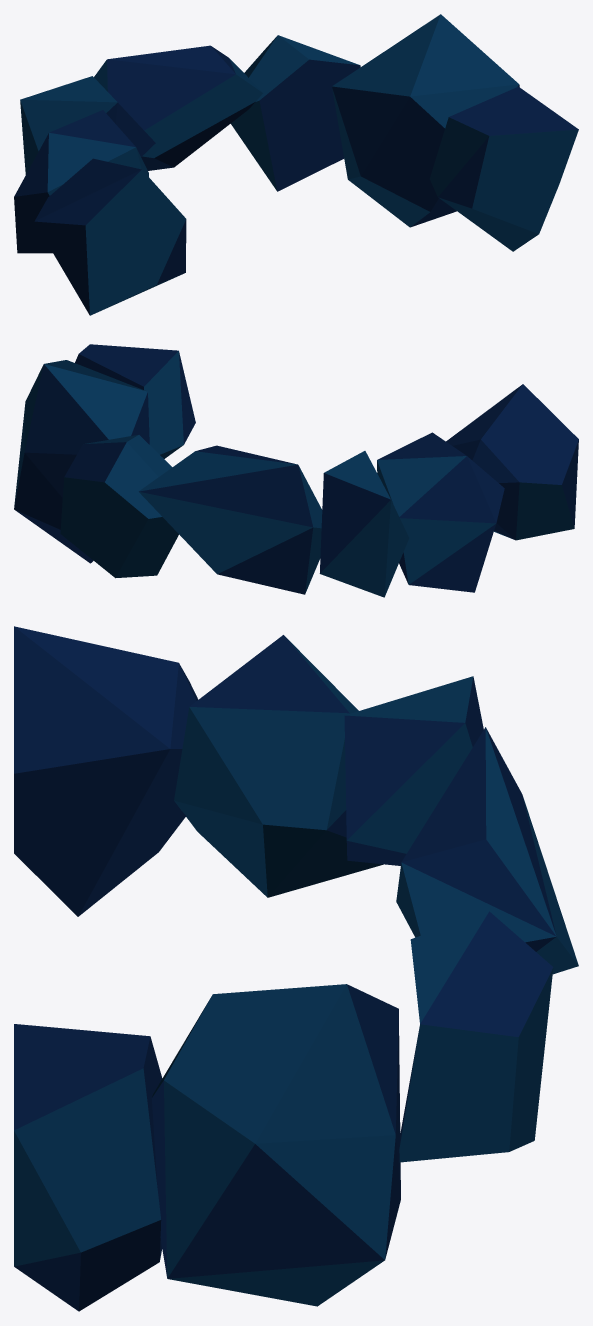
The model's file is winter_middle_gate.fbx.
3 renders of one model, top to bottom at view 1: azimuth 30°, elevation 25°; view 2: azimuth 150°, elevation 25°; view 3: azimuth 270°, elevation 25°, orthographic. The views are drawn at different scales.
Visible parts, largest first — view 1: winter_gate.001; view 2: winter_gate.001; view 3: winter_gate.001.
Boxes of the visible parts, x1,y1,x2,y2 form: winter_gate.001: (14, 14, 578, 315); winter_gate.001: (14, 344, 578, 597); winter_gate.001: (14, 626, 578, 1311).
Size of the model in its own units: 445 by 172 by 237.
